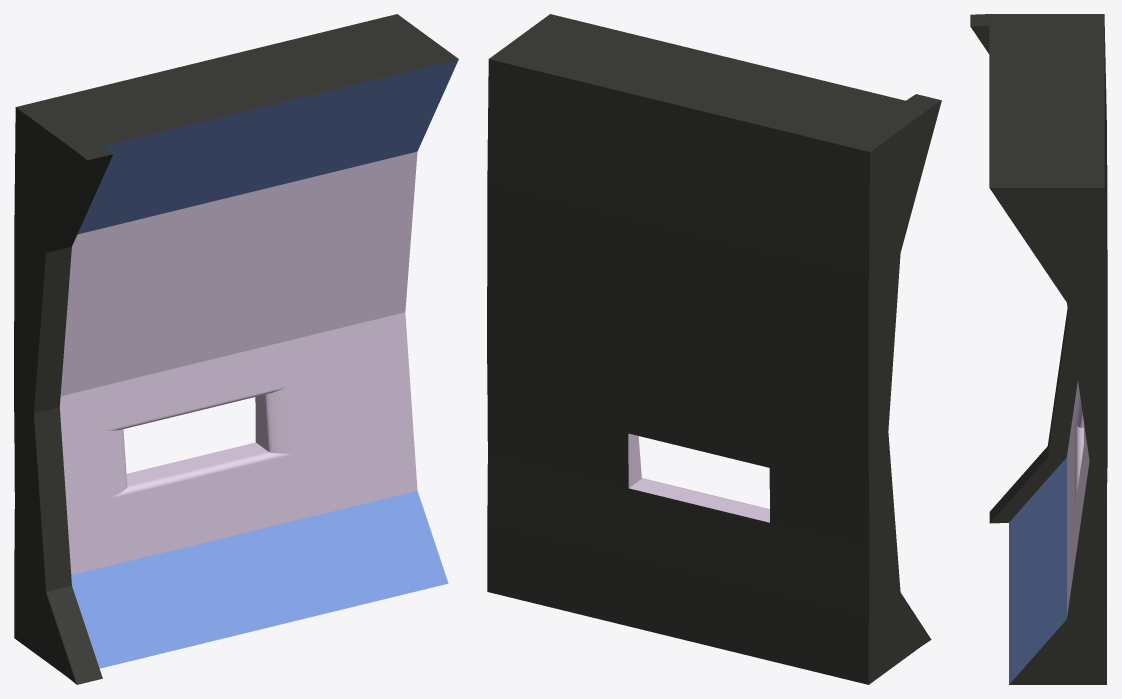
Rendered from SmallWalls.fbx.
3 renders of one model, left to right at view 1: azimuth 30°, elevation 25°; view 2: azimuth 150°, elevation 25°; view 3: azimuth 270°, elevation 25°, orthographic. The views are drawn at different scales.
Visible parts, largest first — view 1: Cylinder; view 2: Cylinder; view 3: Cylinder.
Part boxes in pixels (<box>): Cylinder: <box>14,14,458,684</box>; Cylinder: <box>487,14,941,684</box>; Cylinder: <box>970,14,1107,684</box>.
Bounding box in the file's own units: 6 × 8 × 2.
